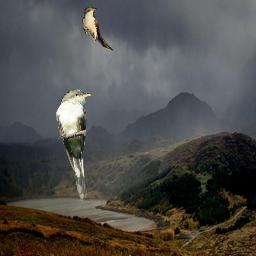Cuckoo: (56, 89, 92, 201), (82, 7, 113, 52)
